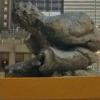Statue: (9, 6, 99, 70)
